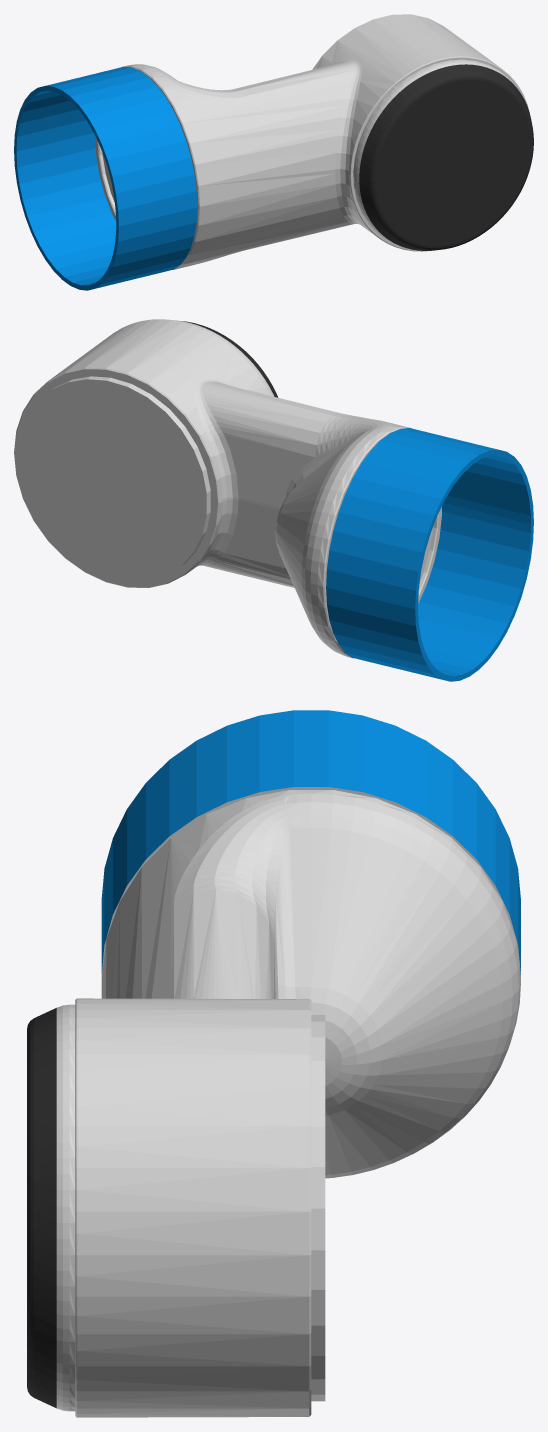
3 views of the same model, one above another, from view 1: azimuth 30°, elevation 25°; view 2: azimuth 150°, elevation 25°; view 3: azimuth 270°, elevation 25° (orthographic). The views are drawn at different scales.
Parts seen in each view (by area): view 1: 8; view 2: 8; view 3: 8.
Boxes of the visible parts, left/top/right/bottom form: 8: left=14, top=14, right=533, bottom=290; 8: left=14, top=319, right=533, bottom=681; 8: left=27, top=710, right=520, bottom=1417.
Size of the model in its own units: 0.233 by 0.104 by 0.1225.
